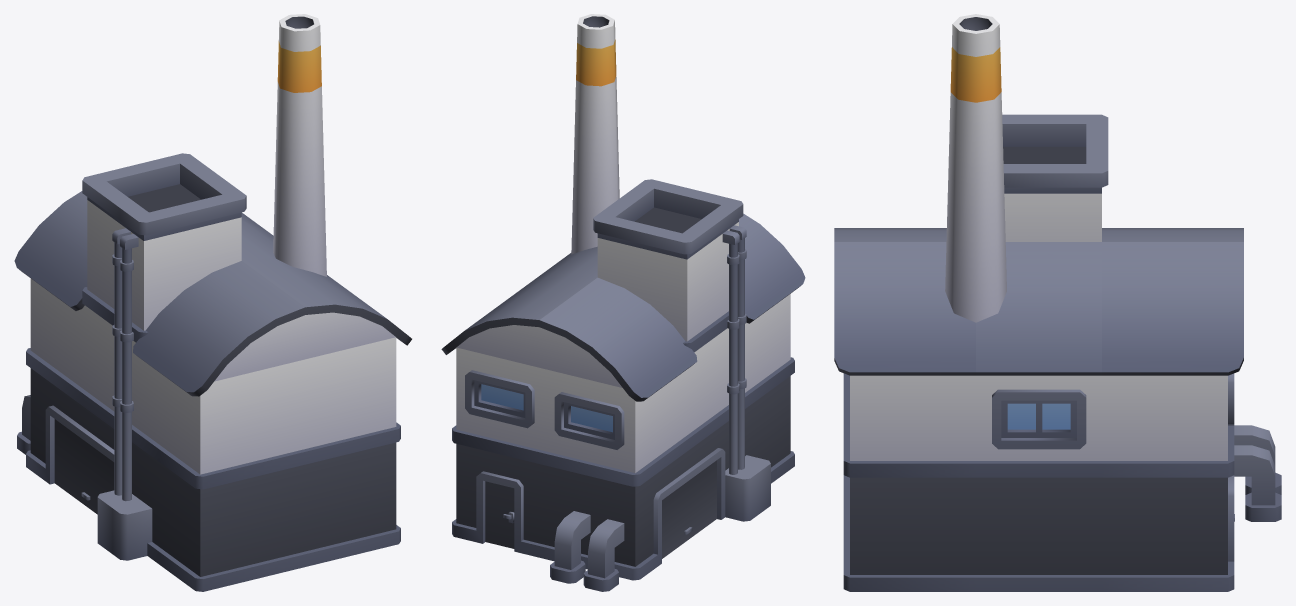
The model's file is building-n.fbx.
3 views of the same model, side by side, from view 1: azimuth 30°, elevation 25°; view 2: azimuth 150°, elevation 25°; view 3: azimuth 270°, elevation 25° (orthographic). The views are drawn at different scales.
Visible parts, largest first — view 1: building-n; view 2: building-n; view 3: building-n.
Part boxes in pixels (box(x1,y1,x2,y2)): building-n: box(14, 14, 411, 591); building-n: box(441, 14, 805, 591); building-n: box(834, 14, 1281, 591).
Bounding box in the file's own units: 97.66 × 190 × 142.
Materials: 1 (1 with a texture image).
